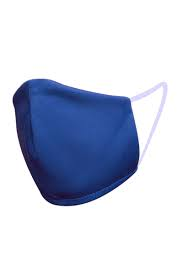cloth_mask: (11, 78, 168, 208)
